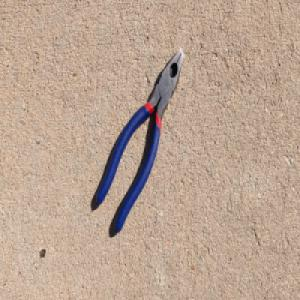Pliers: (95, 47, 184, 235)
